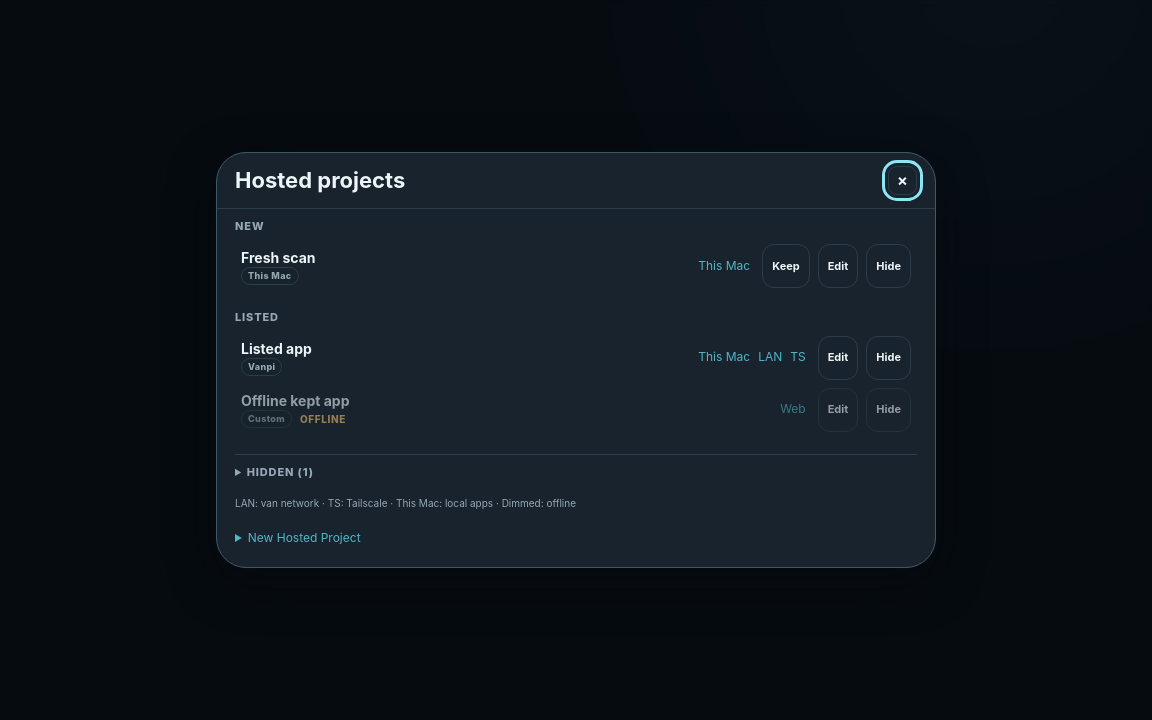
Test: ProjectDirectory › surfaces update errors and keeps the inline editor open
The width and height of the screenshot is (1152, 720).
Expected: the link "Listed app" is shown, [241,340,312,357]
What coordinates should you click on to do the following:
click the button with aria-label "Edit Listed app"
I would click on:
 (838, 358)
Its box is [818,336,858,380].
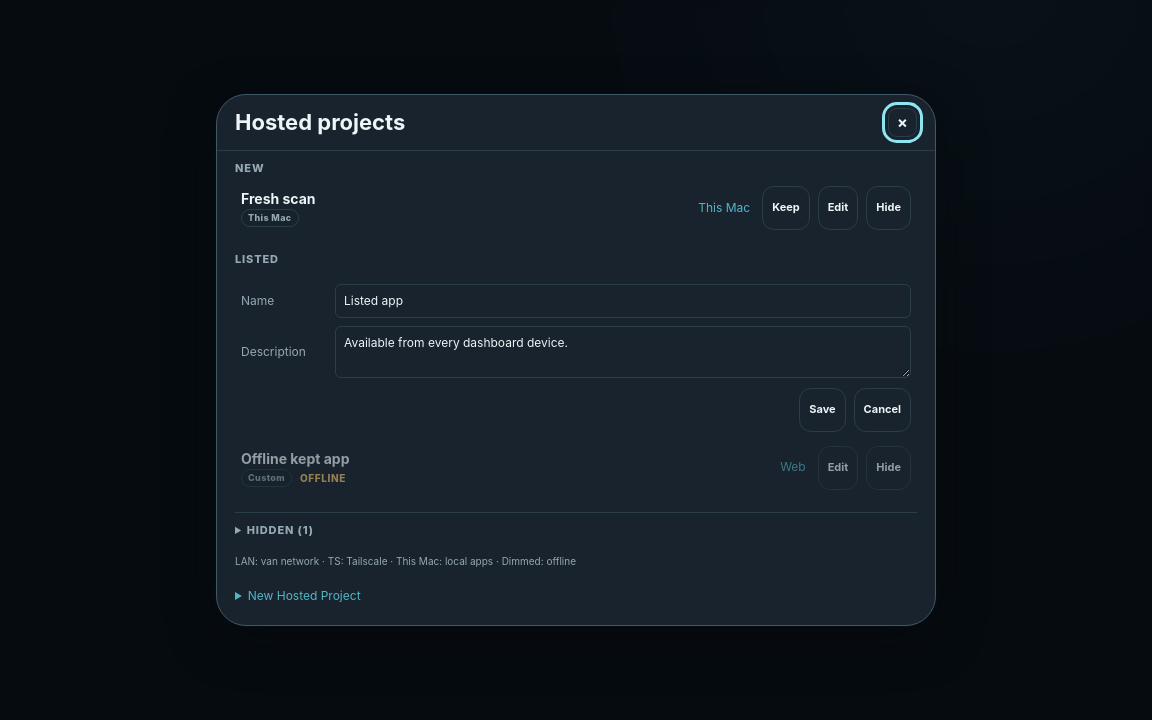
What coordinates should you click on to do the following:
click the button with aria-label "Save changes to Listed app"
I would click on:
 (822, 410)
Its box is [799,388,846,432].
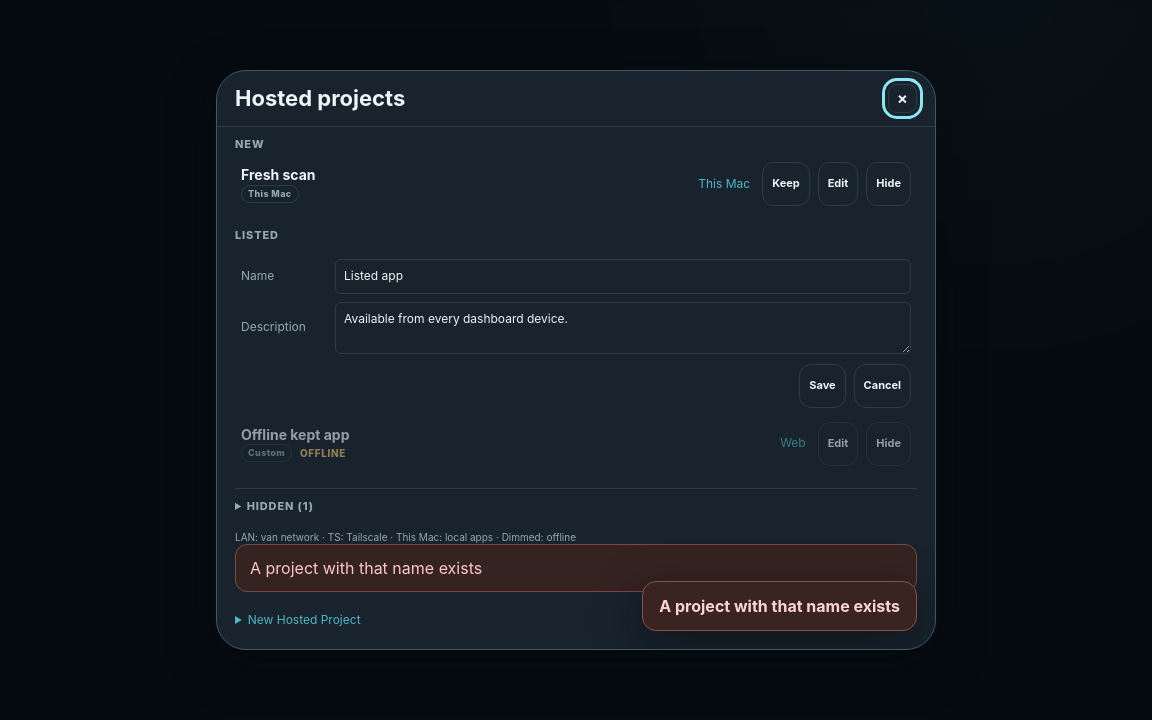
Now the button with aria-label "Save changes to Listed app" is shown, box [799,364,846,408]
Now the message "A project with that name exists" below "Hidden (" is shown, box [250,558,482,578]
Now the 2nd message "A project with that name exists" is shown, box [642,581,917,631]
